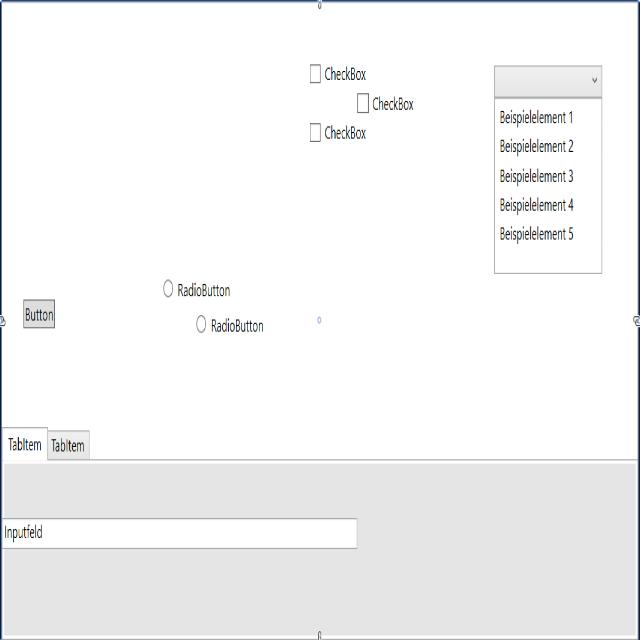button: (20, 295, 58, 335)
checkbox: (308, 58, 323, 87), (308, 117, 322, 147), (356, 88, 370, 115)
dropdownMenu: (491, 61, 606, 281)
input: (2, 516, 360, 551)
label: (210, 314, 268, 338), (176, 279, 234, 301), (370, 90, 418, 116), (324, 122, 371, 146), (324, 62, 369, 84)
menuItem: (498, 103, 578, 131), (497, 218, 580, 244), (497, 162, 578, 186), (498, 192, 580, 214), (498, 134, 579, 156)
radio: (161, 270, 174, 304), (195, 310, 208, 340)
tabControl: (1, 418, 95, 472)
